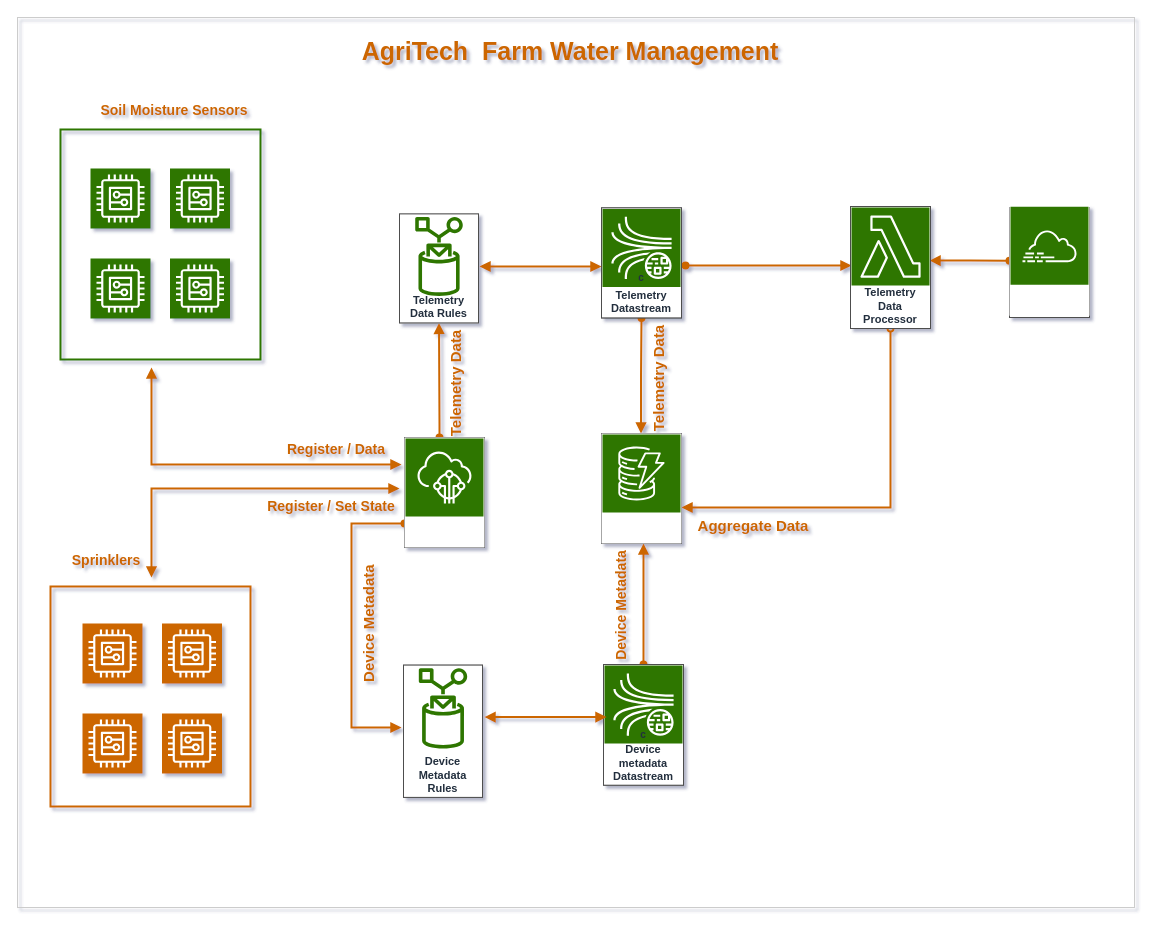
This 1158x931 diagram has some shape labels left out. The centre of each missing label's shape, as x and y in pixels:
"Amazon DynamoDB" goes at point 641,488.
"Amazon IoT Core" goes at point 444,492.
"Weather Data API" goes at point 1049,260.
